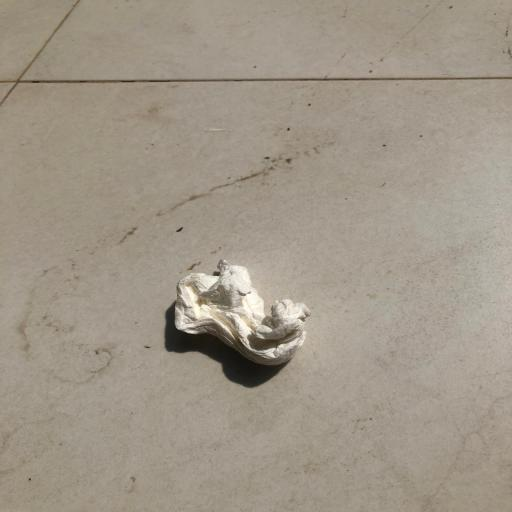waste: (156, 251, 320, 375)
